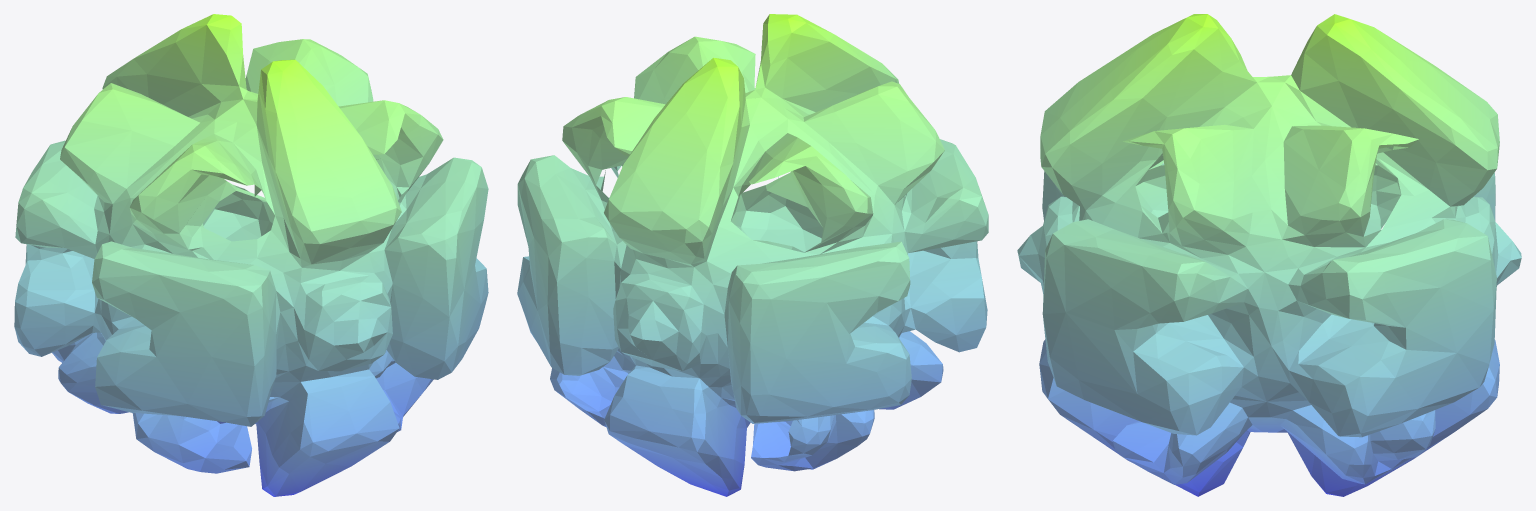
File: 133_cyb_laser_gradient_fish_scales_2859_2026_10_03_d3bfdc.glb
3 views of the same model, side by side, from view 1: azimuth 30°, elevation 25°; view 2: azimuth 150°, elevation 25°; view 3: azimuth 270°, elevation 25° (orthographic). The views are drawn at different scales.
Visible parts, largest first — view 1: geometry_0; view 2: geometry_0; view 3: geometry_0.
Part boxes in pixels (bbox=[...]): geometry_0: bbox=[14, 14, 488, 496]; geometry_0: bbox=[517, 14, 988, 496]; geometry_0: bbox=[1017, 14, 1521, 496].
Bounding box in the file's own units: 0.9387 × 0.994 × 0.9566.
